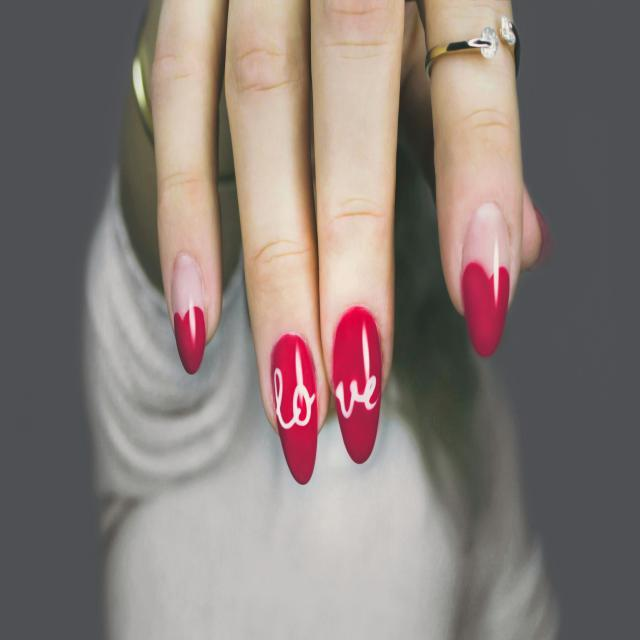Fingernail: (332, 306, 383, 465), (462, 202, 511, 358), (271, 335, 318, 485), (171, 251, 207, 374)
